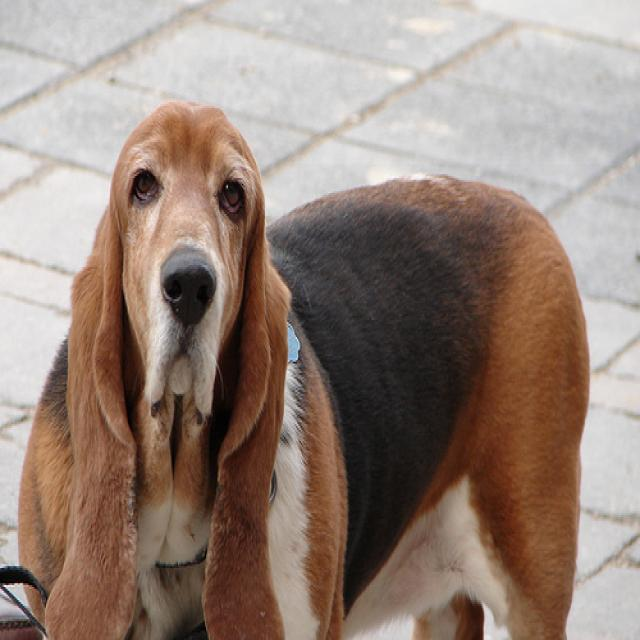dog-basset_hound: (9, 97, 596, 636)
